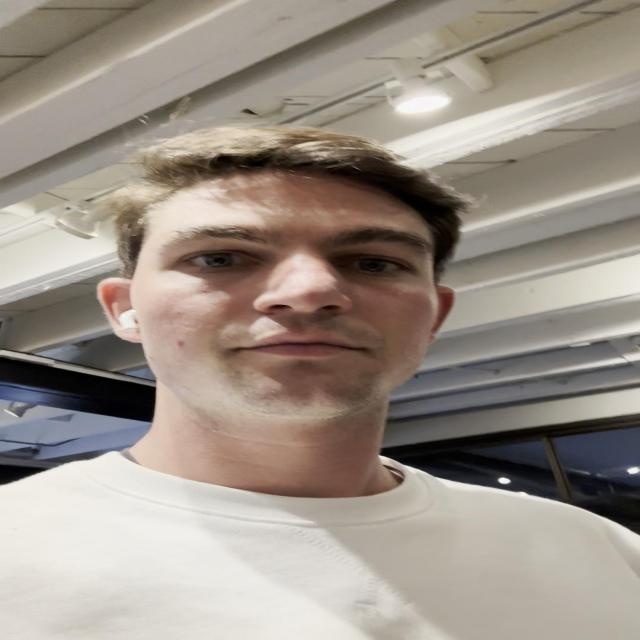no-helmet: (99, 128, 463, 429)
